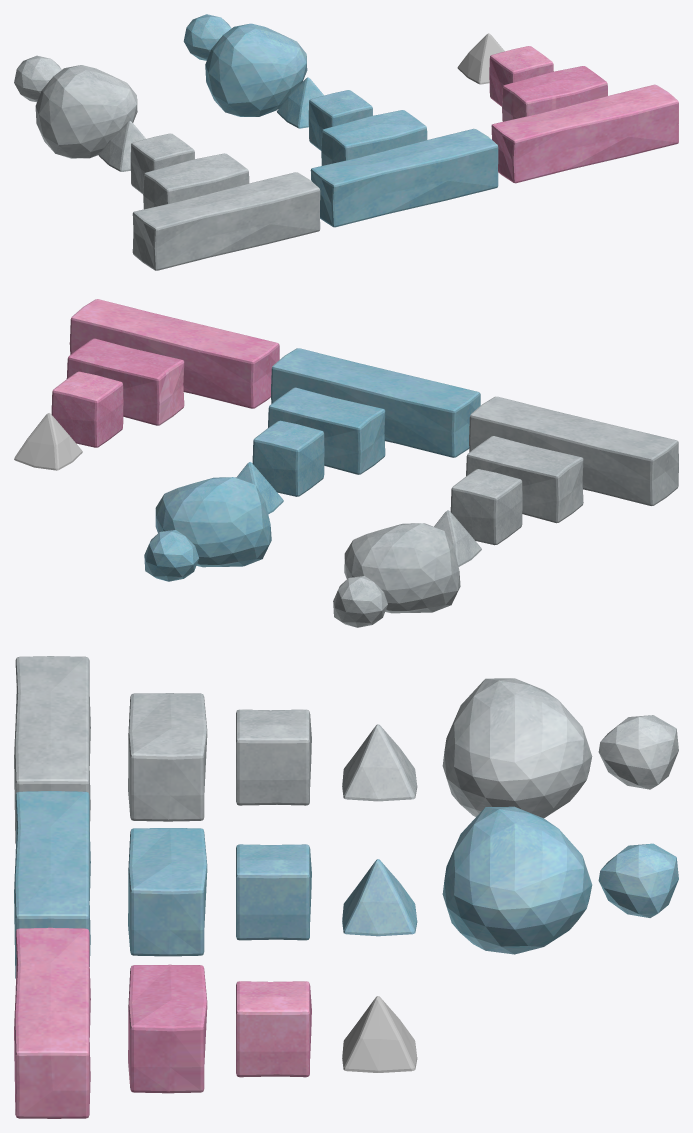
Rendered from WinterIce.fbx.
The picture shows the model from 3 angles, top to bottom: view 1: azimuth 30°, elevation 25°; view 2: azimuth 150°, elevation 25°; view 3: azimuth 270°, elevation 25°; orthographic projection. The views are drawn at different scales.
Parts seen in each view (by area): view 1: SnowBlockLrgA__2_, SnowBlockLrgA__1_, SnowBlockLrgA, SnowSphereMedA__1_, SnowSphereMedA, SnowBlockMedA, SnowBlockMedA__2_, SnowBlockMedA__1_, SnowBlockSmlA__1_, SnowBlockSmlA__2_, SnowBlockSmlA, SnowSphereSmlA__1_ (+4 smaller); view 2: SnowBlockLrgA__2_, SnowBlockLrgA__1_, SnowBlockLrgA, SnowSphereMedA__1_, SnowSphereMedA, SnowBlockMedA__2_, SnowBlockMedA, SnowBlockMedA__1_, SnowBlockSmlA__1_, SnowBlockSmlA, SnowBlockSmlA__2_, SnowPyramidSmlA__3_ (+4 smaller); view 3: SnowSphereMedA__1_, SnowSphereMedA, SnowBlockLrgA__1_, SnowBlockLrgA, SnowBlockLrgA__2_, SnowBlockMedA__2_, SnowBlockMedA, SnowBlockMedA__1_, SnowBlockSmlA__1_, SnowBlockSmlA, SnowBlockSmlA__2_, SnowSphereSmlA (+4 smaller).
Part boxes in pixels (left/top/right/bottom): SnowBlockLrgA__2_: left=132, top=172, right=320, bottom=270; SnowBlockLrgA__1_: left=491, top=84, right=678, bottom=183; SnowBlockLrgA: left=310, top=128, right=498, bottom=227; SnowSphereMedA__1_: left=205, top=23, right=307, bottom=116; SnowSphereMedA: left=35, top=65, right=137, bottom=158; SnowBlockMedA: left=321, top=110, right=427, bottom=165; SnowBlockMedA__2_: left=143, top=153, right=249, bottom=209; SnowBlockMedA__1_: left=502, top=66, right=607, bottom=121; SnowBlockSmlA__1_: left=489, top=46, right=553, bottom=106; SnowBlockSmlA__2_: left=130, top=133, right=194, bottom=193; SnowBlockSmlA: left=308, top=90, right=372, bottom=150; SnowSphereSmlA__1_: left=183, top=14, right=231, bottom=60; SnowBlockLrgA__2_: left=469, top=396, right=678, bottom=505; SnowBlockLrgA__1_: left=69, top=299, right=279, bottom=408; SnowBlockLrgA: left=271, top=348, right=480, bottom=457; SnowSphereMedA__1_: left=155, top=477, right=271, bottom=567; SnowSphereMedA: left=344, top=523, right=460, bottom=613; SnowBlockMedA__2_: left=466, top=436, right=583, bottom=523; SnowBlockMedA: left=268, top=387, right=385, bottom=474; SnowBlockMedA__1_: left=66, top=338, right=184, bottom=425; SnowBlockSmlA__1_: left=51, top=371, right=123, bottom=447; SnowBlockSmlA: left=252, top=420, right=324, bottom=496; SnowBlockSmlA__2_: left=450, top=469, right=522, bottom=545; SnowPyramidSmlA__3_: left=14, top=413, right=82, bottom=470; SnowSphereMedA__1_: left=442, top=806, right=592, bottom=954; SnowSphereMedA: left=442, top=678, right=592, bottom=818; SnowBlockLrgA__1_: left=14, top=927, right=90, bottom=1118; SnowBlockLrgA: left=14, top=791, right=90, bottom=978; SnowBlockLrgA__2_: left=14, top=656, right=90, bottom=843; SnowBlockMedA__2_: left=128, top=693, right=207, bottom=821; SnowBlockMedA: left=128, top=828, right=207, bottom=956; SnowBlockMedA__1_: left=128, top=964, right=207, bottom=1093; SnowBlockSmlA__1_: left=236, top=981, right=311, bottom=1077; SnowBlockSmlA: left=236, top=844, right=311, bottom=940; SnowBlockSmlA__2_: left=236, top=709, right=311, bottom=805; SnowSphereSmlA: left=598, top=715, right=678, bottom=789.
Bounding box in the file's own units: 636 × 92.45 × 449.
